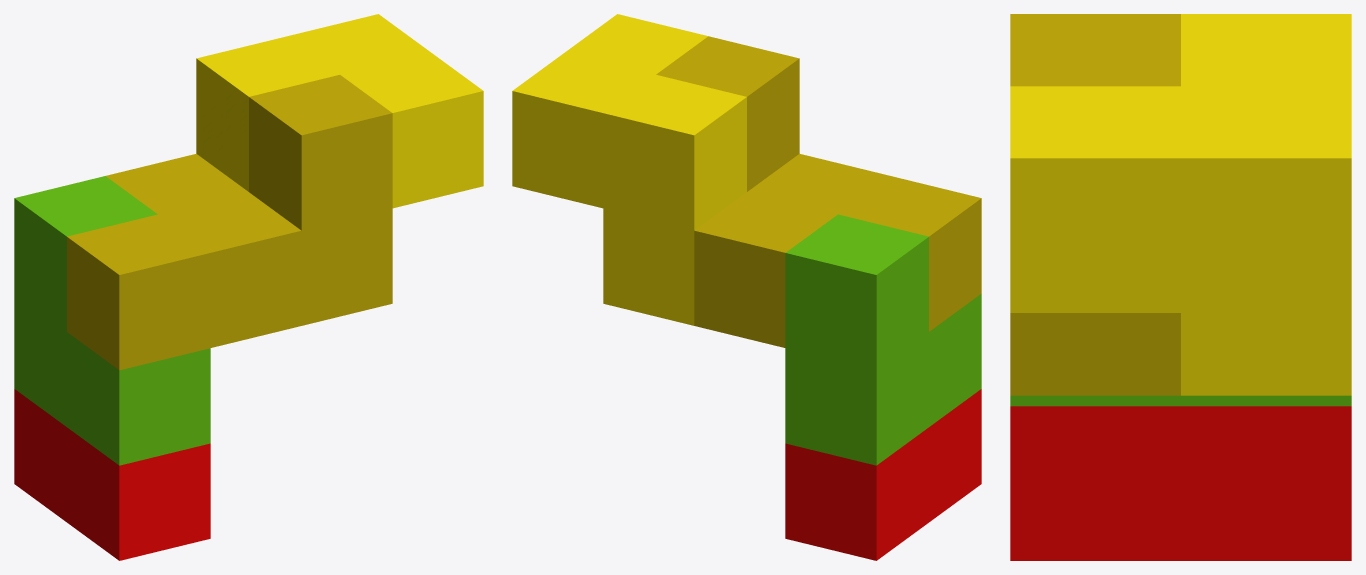
The picture shows the model from 3 angles, left to right: view 1: azimuth 30°, elevation 25°; view 2: azimuth 150°, elevation 25°; view 3: azimuth 270°, elevation 25°; orthographic projection. The views are drawn at different scales.
Visible parts, largest first — view 1: mergedBlocks(Clone); view 2: mergedBlocks(Clone); view 3: mergedBlocks(Clone).
Boxes of the visible parts, x1=… form: mergedBlocks(Clone): x1=14, y1=14, x2=483, y2=560; mergedBlocks(Clone): x1=512, y1=14, x2=981, y2=560; mergedBlocks(Clone): x1=1010, y1=14, x2=1351, y2=560.
Bounding box in the file's own units: 4 × 4 × 2.
Materials: 4 (4 with a texture image).
